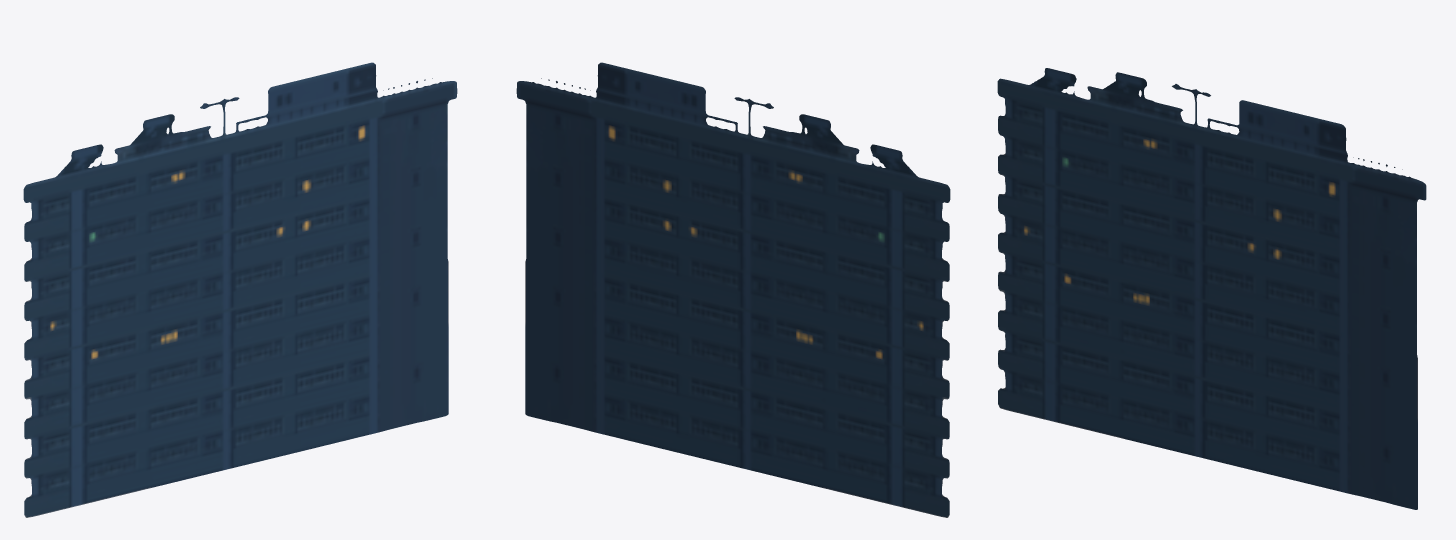
File: HuBian_NightFangzi2_fbx.FBX
3 views of the same model, side by side, from view 1: azimuth 30°, elevation 25°; view 2: azimuth 150°, elevation 25°; view 3: azimuth 330°, elevation 25° (orthographic).
Visible parts, largest first — view 1: Object055; view 2: Object055; view 3: Object055.
Part boxes in pixels (<box>): Object055: <box>23,62,457,517</box>; Object055: <box>516,62,950,517</box>; Object055: <box>997,68,1426,509</box>.
Bounding box in the file's own units: 3.1 × 2.63 × 5.84e-07.
1 material, 1 textured.
